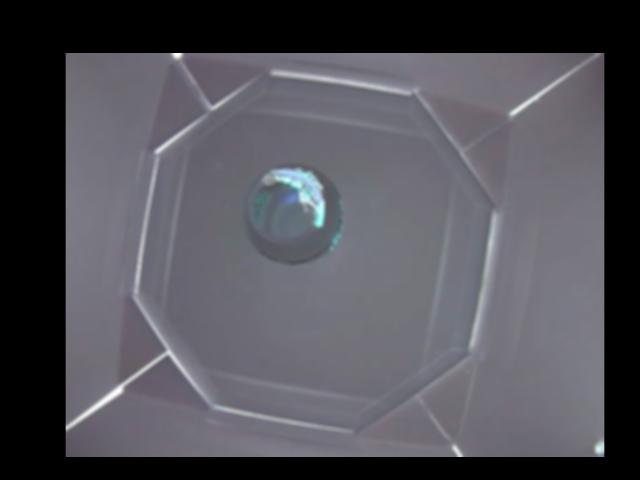Bottle: (248, 164, 341, 265)
